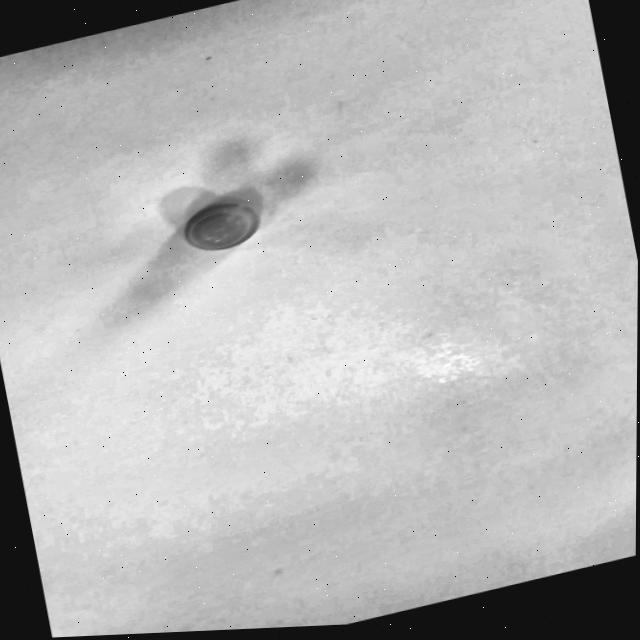white-pawn: (168, 163, 307, 280)
